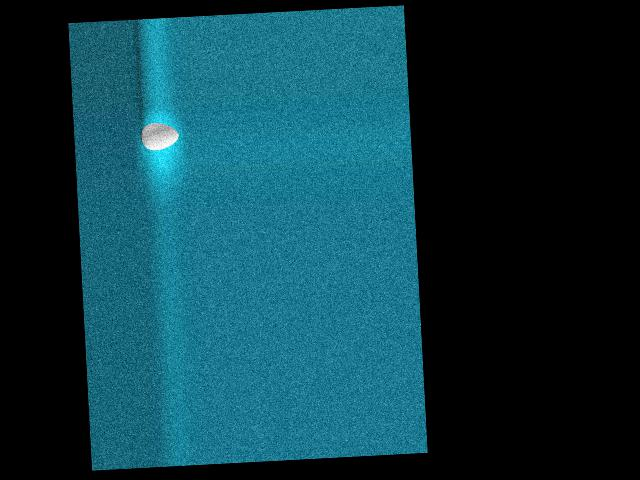egg: (140, 121, 178, 150)
